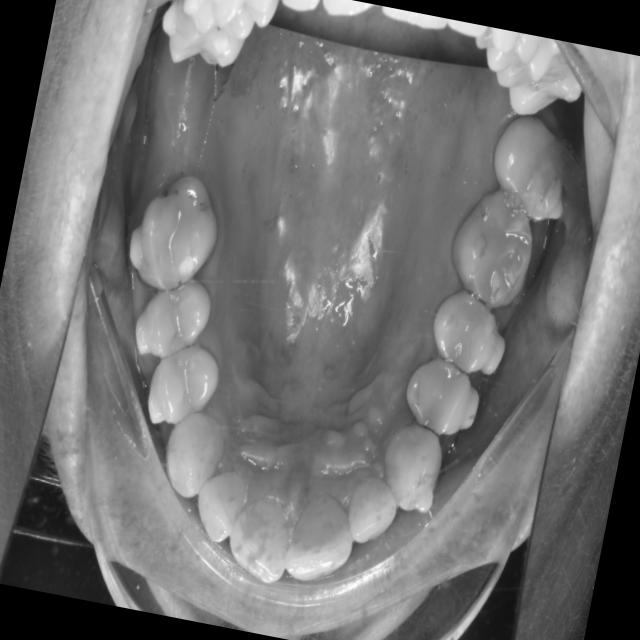tooth: (113, 156, 246, 322), (431, 168, 556, 328), (472, 98, 594, 236), (120, 266, 236, 390), (128, 322, 237, 451), (408, 280, 528, 397), (271, 468, 374, 603), (216, 474, 314, 598), (393, 348, 496, 458), (175, 445, 266, 561), (365, 415, 456, 529), (330, 459, 418, 571), (152, 407, 238, 514)
